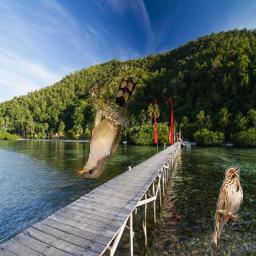Cuckoo: (75, 78, 137, 179)
Sparrow: (209, 164, 243, 252)
